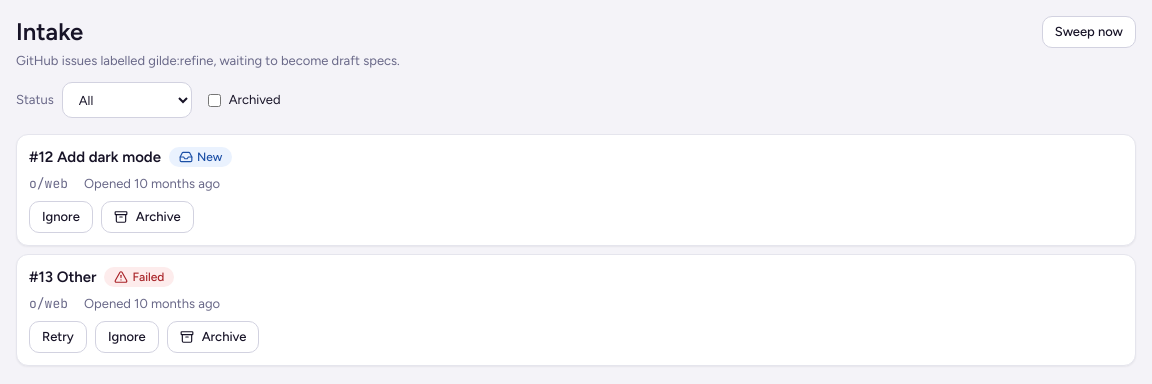
Scenario: IntakeView › filters by status without another request, and resets
Expected: the link "#12 Add dark mode" is shown, left=29, top=147, right=161, bottom=167
Select "Failed" in the dropdown labelled "Status" at (127, 100), box left=62, top=82, right=192, bottom=118
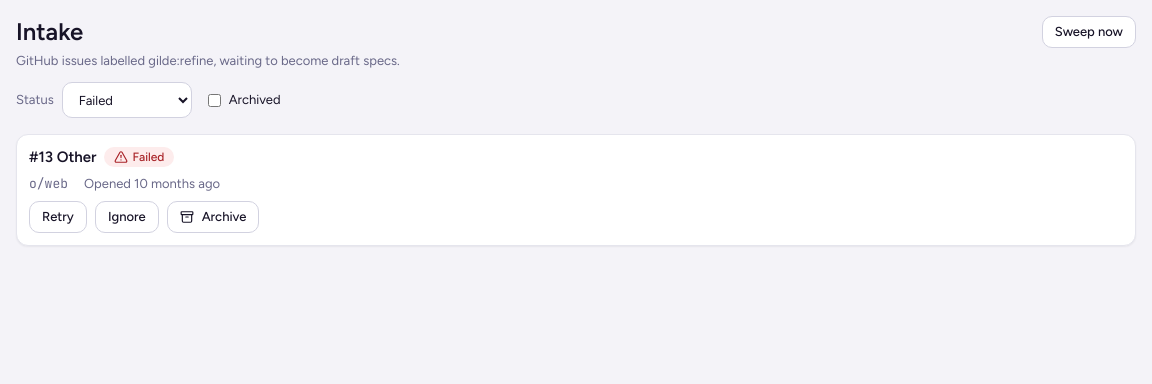
Expected: the link "#13 Other" is shown, left=29, top=147, right=96, bottom=167
Expected: the link "#12 Add dark mode" is gone
Select "Ignored" in the dropdown labelled "Status" at (127, 100), box left=62, top=82, right=192, bottom=118
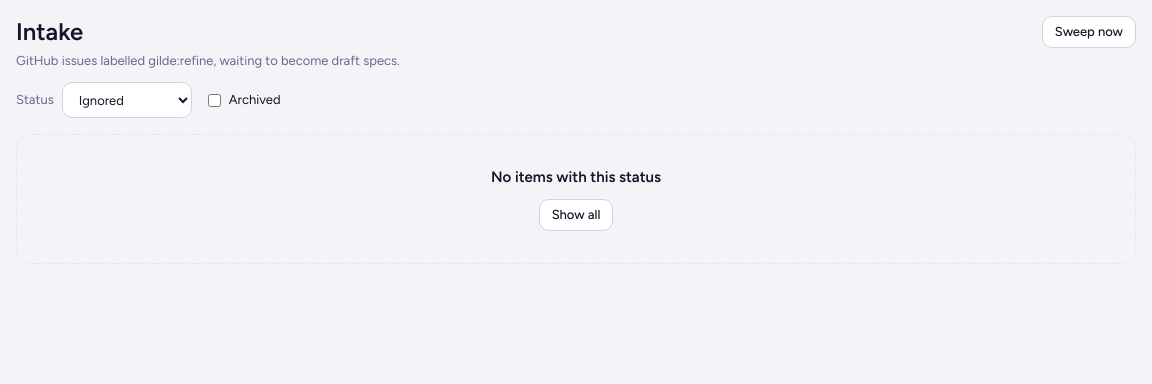
Click the button "Show all" at (576, 215), box left=539, top=199, right=613, bottom=231
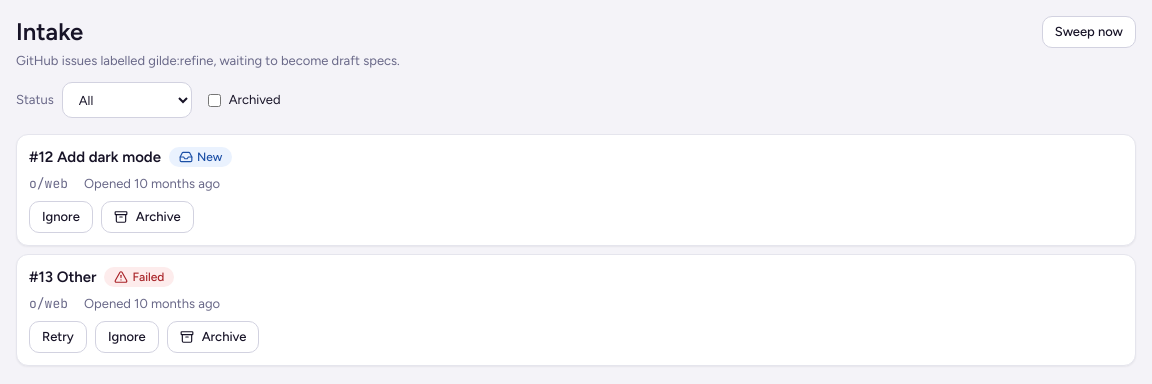
Expected: the link "#12 Add dark mode" is shown, left=29, top=147, right=161, bottom=167
